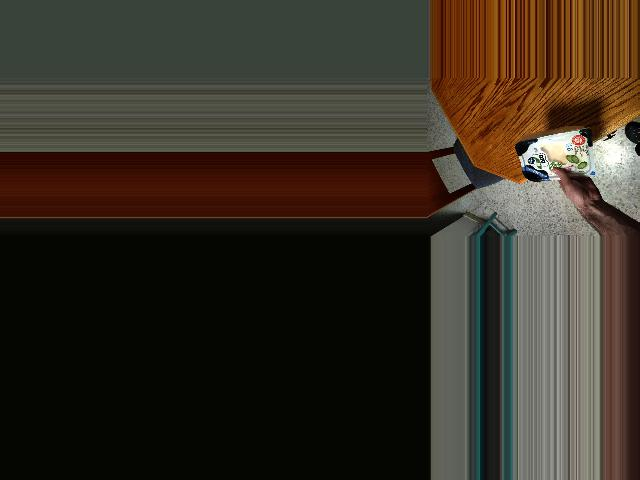cheese: (513, 136, 599, 185)
